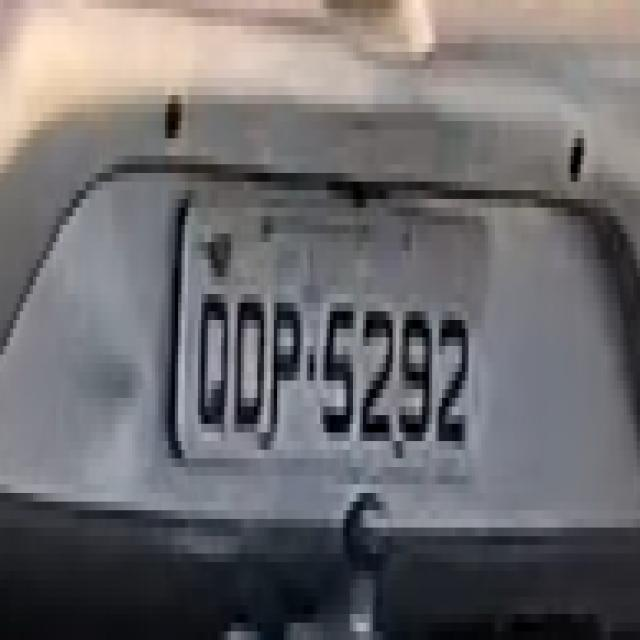Placa_mercosul_carro: (175, 195, 490, 482)
